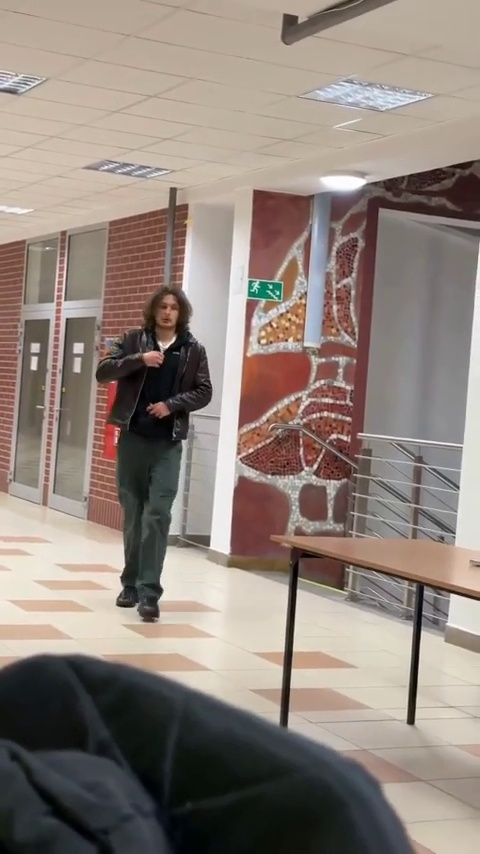no vest: (108, 280, 210, 625)
